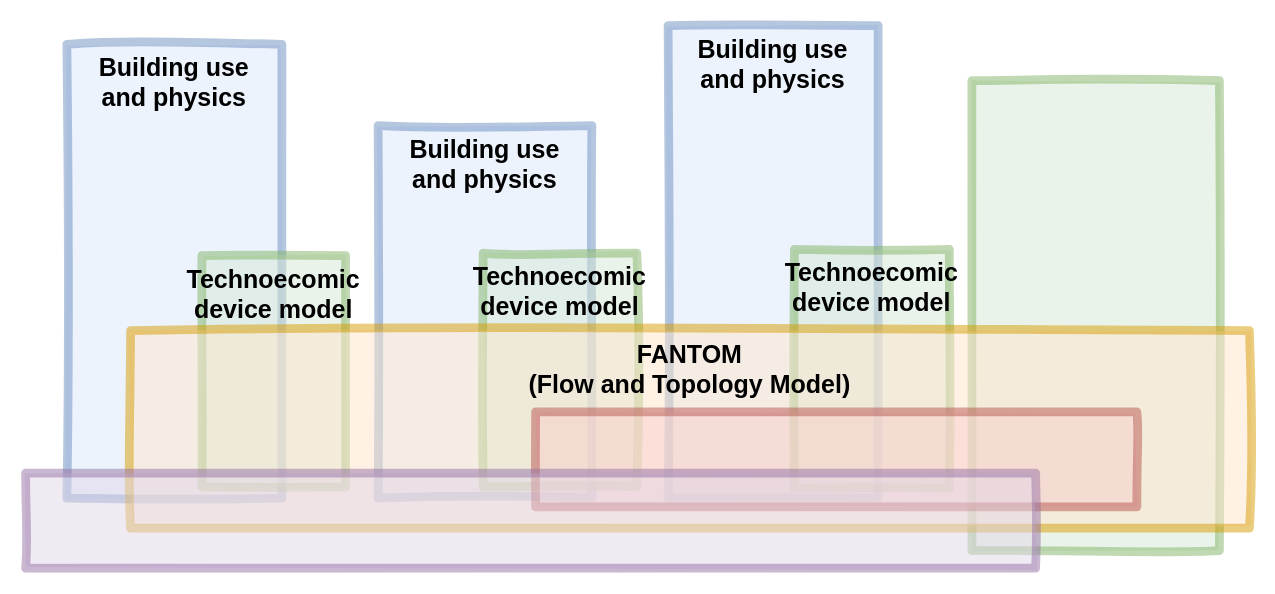
Image size: 1275x594. Some labels were removed from this diagram. The shapes that lost their labels are listed below. From the top down, each one's centre as x and y in pixels, then its label:
At (1095,315): "Technoecomic device model (for central devices)".
At (836,459): "District heating grid model".
At (530,520): "District electricity grid model".
